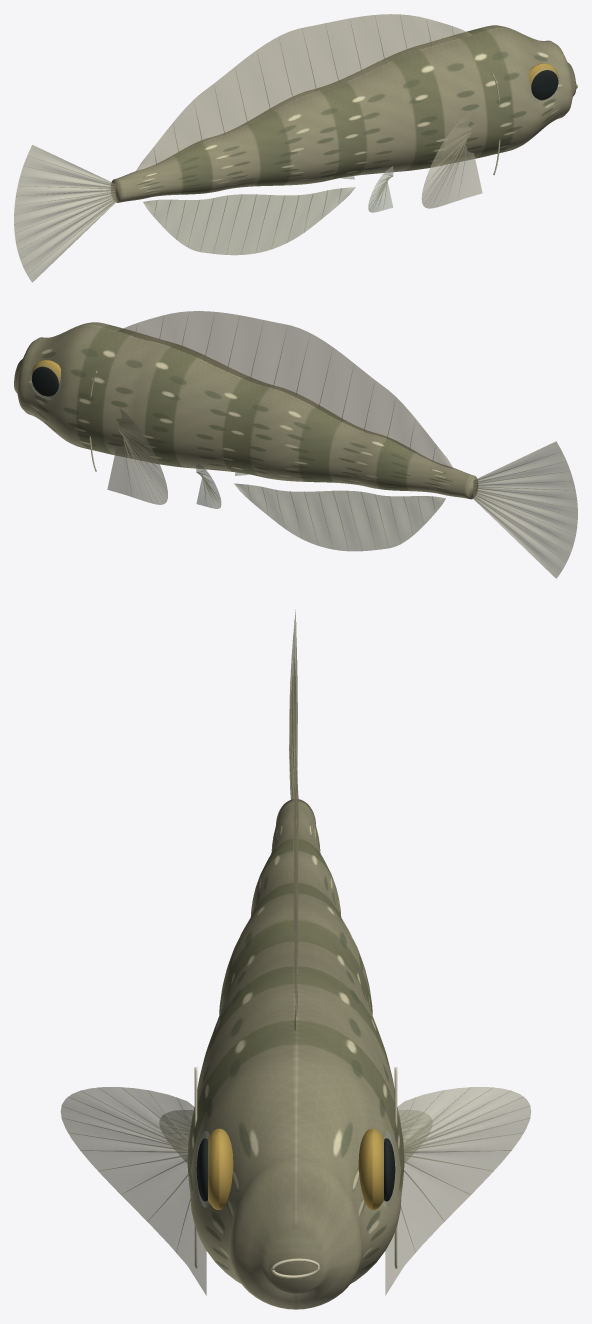
File: blenny-desktop.glb
3 views of the same model, one above another, from view 1: azimuth 30°, elevation 25°; view 2: azimuth 150°, elevation 25°; view 3: azimuth 270°, elevation 25° (orthographic). The views are drawn at different scales.
Parts seen in each view (by area): view 1: skin, dorsal, anal, tail, pectoral-left, dorsal-ray, pelvic-left, eye-pupil--1; view 2: skin, dorsal, anal, tail, pectoral-left, dorsal-ray, pelvic-left, eye-pupil--1; view 3: skin, pectoral-left, dorsal-ray, eye-iris--1, pelvic-left, tail, eye-pupil--1, operculum, dorsal.
Boxes of the visible parts, bbox=[...] form: skin: bbox=[111, 25, 576, 202]; dorsal: bbox=[135, 14, 471, 172]; anal: bbox=[143, 187, 355, 255]; tail: bbox=[14, 145, 115, 282]; pectoral-left: bbox=[421, 112, 482, 208]; dorsal-ray: bbox=[14, 16, 472, 267]; pelvic-left: bbox=[341, 166, 393, 212]; eye-pupil--1: bbox=[531, 70, 558, 99]; skin: bbox=[14, 322, 477, 499]; dorsal: bbox=[118, 311, 453, 468]; anal: bbox=[234, 483, 445, 551]; tail: bbox=[473, 441, 577, 578]; pectoral-left: bbox=[107, 408, 167, 504]; dorsal-ray: bbox=[117, 312, 576, 566]; pelvic-left: bbox=[196, 462, 248, 508]; eye-pupil--1: bbox=[32, 366, 58, 396]; skin: bbox=[187, 799, 404, 1309]; pectoral-left: bbox=[60, 1087, 531, 1295]; dorsal-ray: bbox=[62, 620, 529, 1251]; eye-iris--1: bbox=[207, 1128, 384, 1209]; pelvic-left: bbox=[159, 1110, 432, 1162]; tail: bbox=[289, 609, 297, 799]; eye-pupil--1: bbox=[196, 1138, 395, 1201]; operculum: bbox=[194, 1067, 397, 1278]; dorsal: bbox=[293, 750, 298, 1030].
Size of the model in its own units: 0.5852 by 0.2144 by 0.2136.
11 materials, 1 textured.
